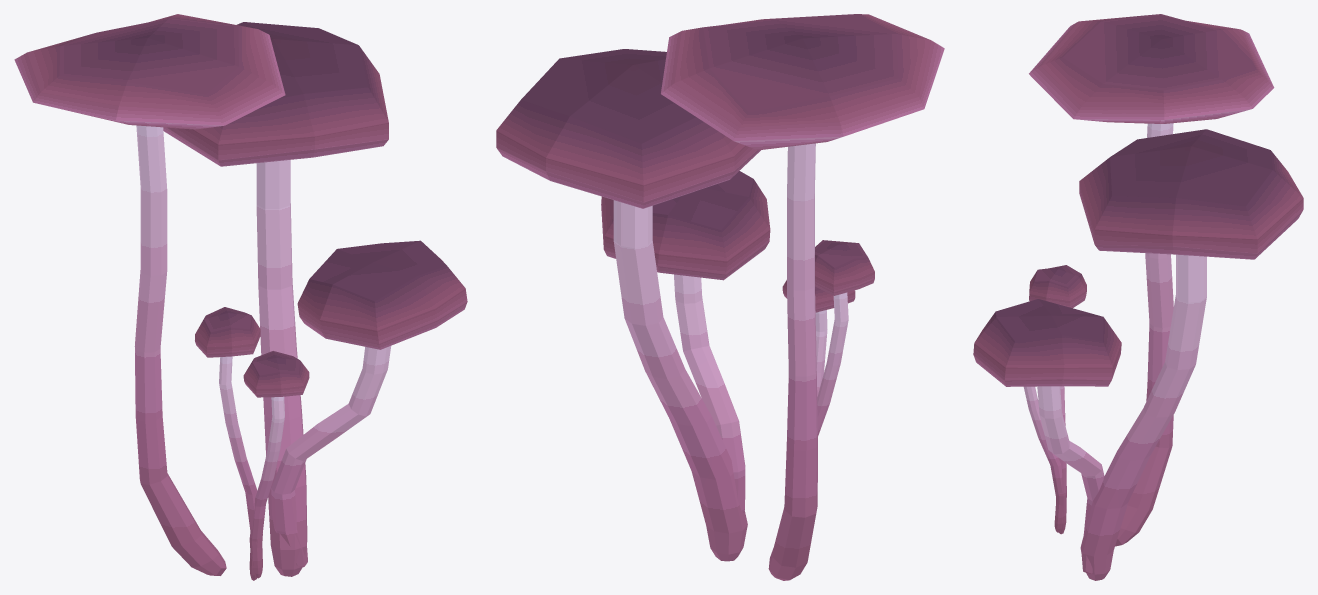
File: Amethyst_Bunch.glb
The picture shows the model from 3 angles, left to right: view 1: azimuth 30°, elevation 25°; view 2: azimuth 150°, elevation 25°; view 3: azimuth 270°, elevation 25°; orthographic projection. The views are drawn at different scales.
Visible parts, largest first — view 1: Amethyst_Bunch; view 2: Amethyst_Bunch; view 3: Amethyst_Bunch.
Boxes of the visible parts, x1=… form: Amethyst_Bunch: x1=14, y1=14, x2=467, y2=580; Amethyst_Bunch: x1=496, y1=14, x2=944, y2=580; Amethyst_Bunch: x1=973, y1=14, x2=1303, y2=580.
Size of the model in its own units: 1.38 by 1.99 by 1.21.
1 material, 1 textured.
